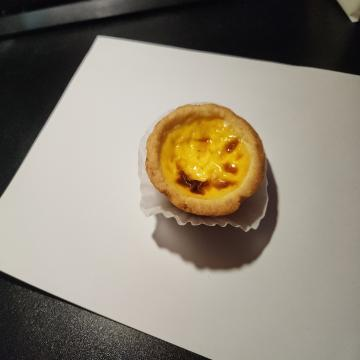EggTart: (144, 101, 266, 218)
